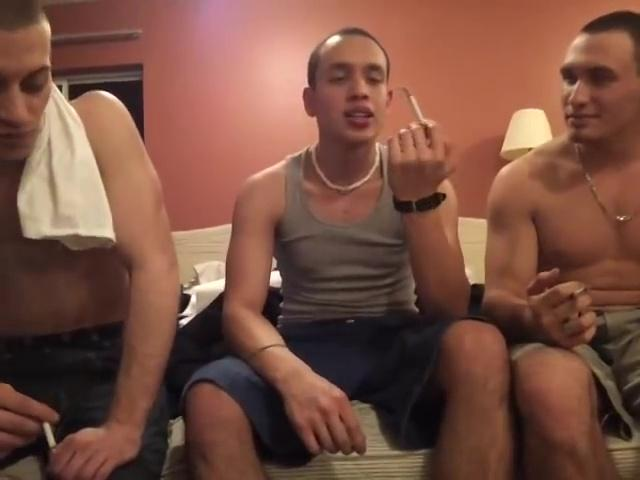cigarette: (402, 85, 428, 125), (38, 416, 58, 459), (569, 287, 592, 304)
